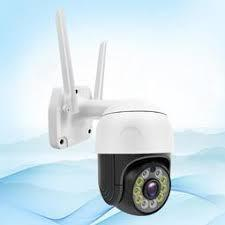maru: (92, 94, 174, 214)
